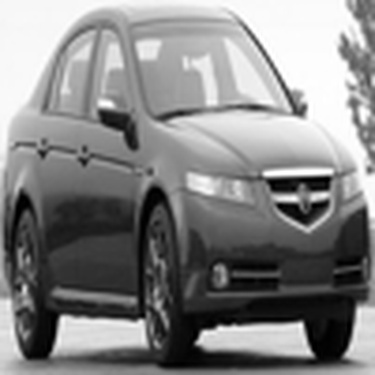car: (5, 6, 369, 369)
